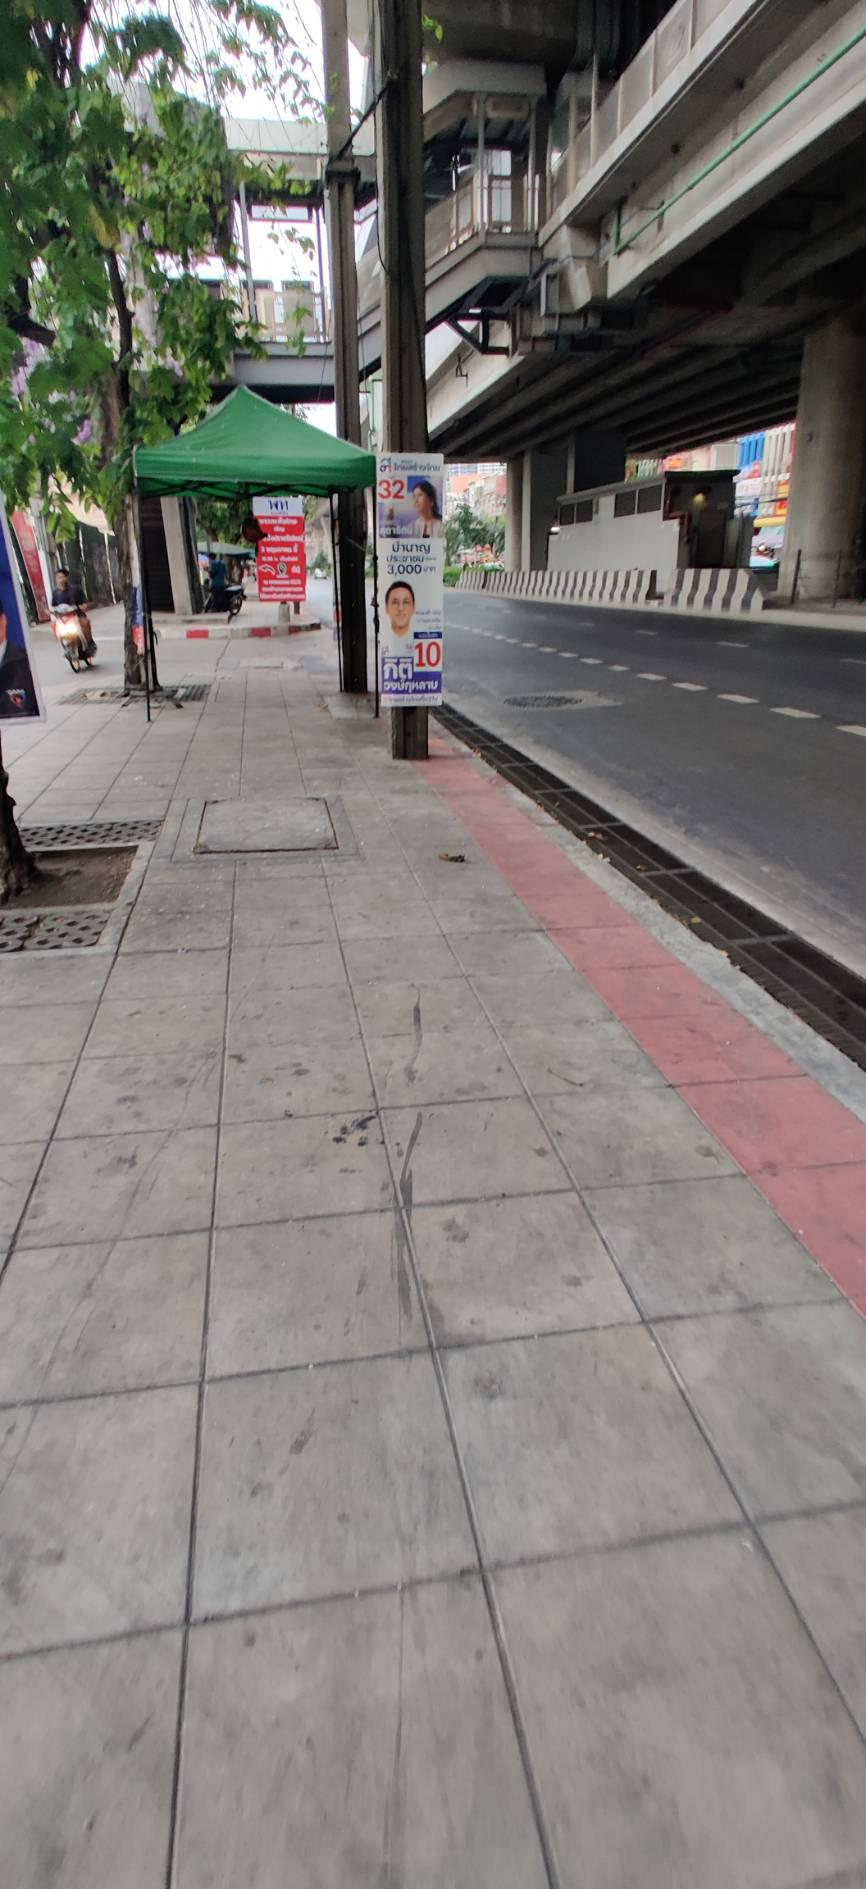Banner: (379, 459, 450, 708)
